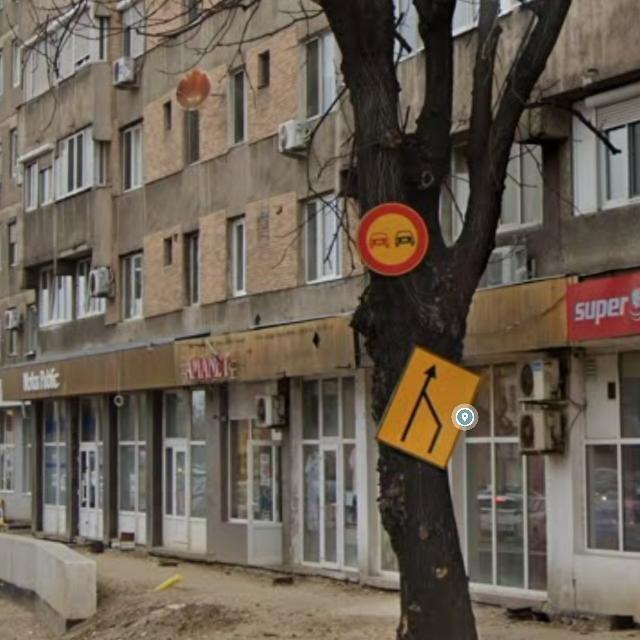forb_overtake: (357, 202, 429, 276)
